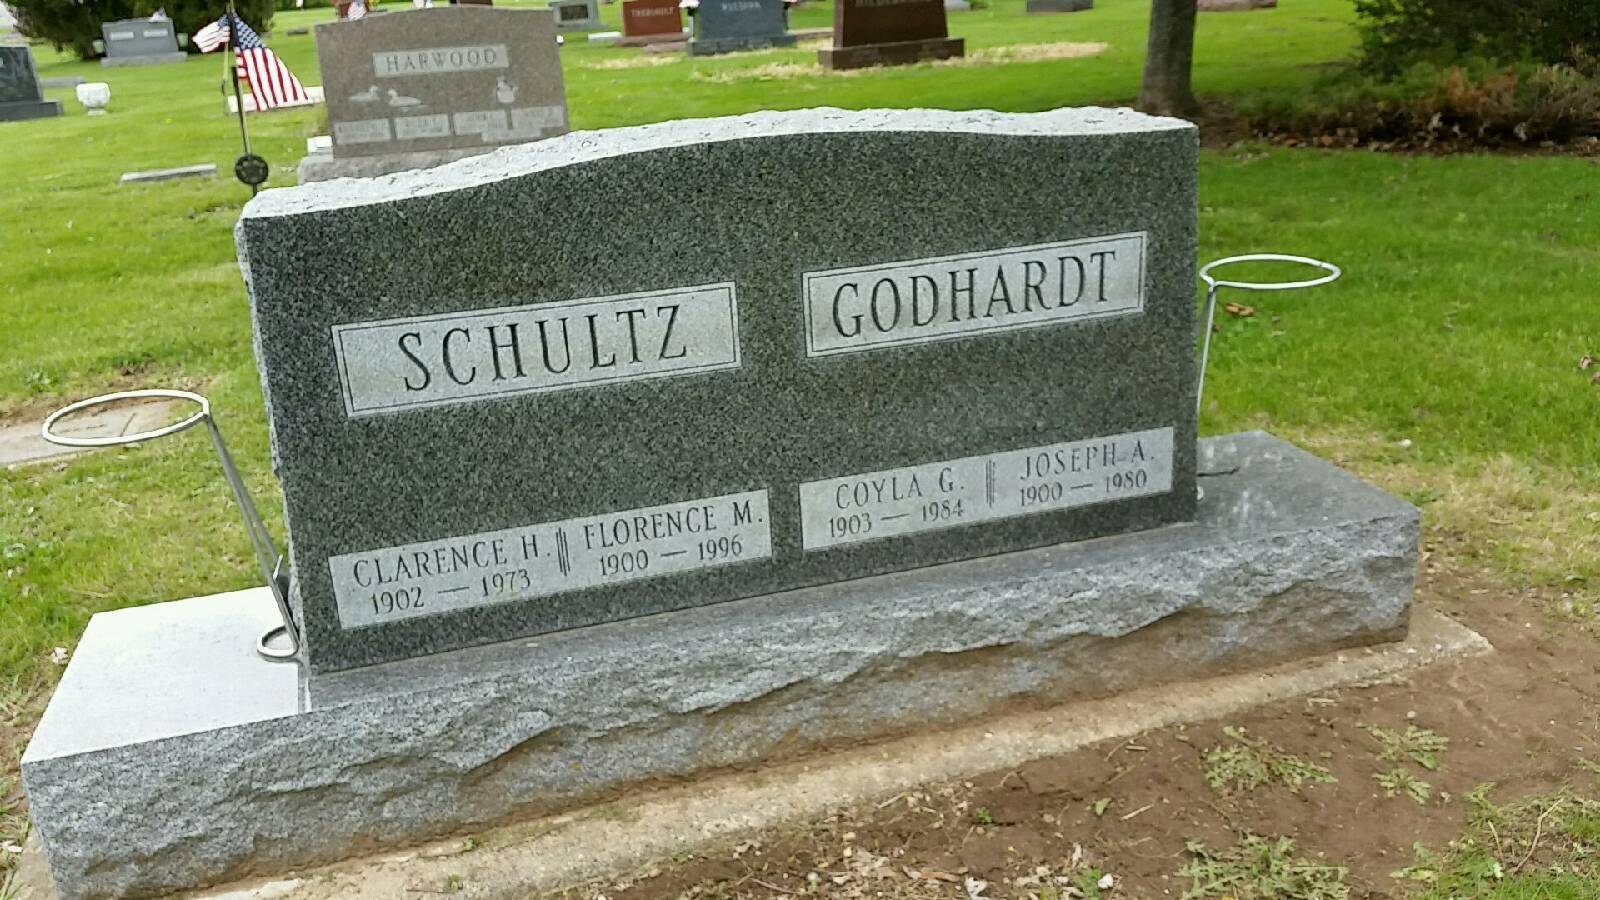upright: (27, 88, 1487, 899)
